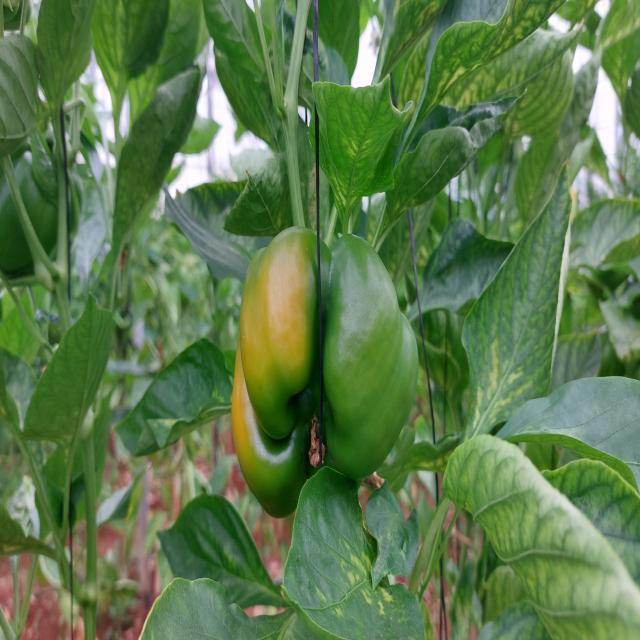GreenishYellow--Can-be-Harvested: (237, 211, 412, 514)
